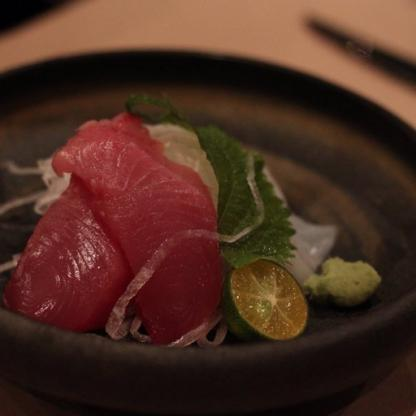tuna: (14, 119, 216, 341)
